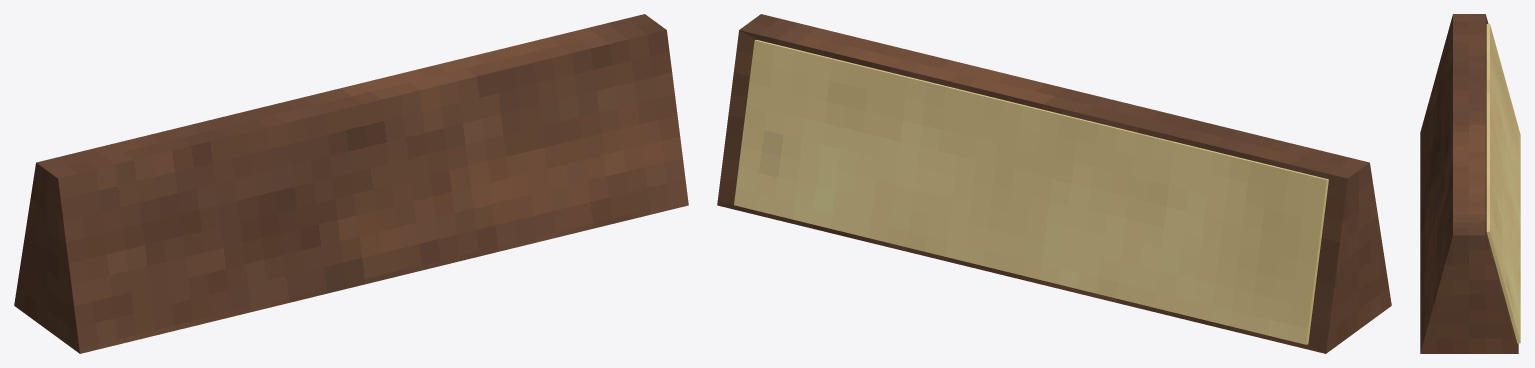
File: table_nameplate.gltf
3 renders of one model, left to right at view 1: azimuth 30°, elevation 25°; view 2: azimuth 150°, elevation 25°; view 3: azimuth 270°, elevation 25°, orthographic. The views are drawn at different scales.
Visible parts, largest first — view 1: wood_base; view 2: golden_nameplate, wood_base; view 3: wood_base, golden_nameplate.
Part boxes in pixels (box(x1,y1,x2,y2)): wood_base: box(14, 14, 688, 353); golden_nameplate: box(734, 40, 1328, 344); wood_base: box(717, 14, 1391, 353); wood_base: box(1420, 14, 1518, 353); golden_nameplate: box(1486, 23, 1520, 343).
Bounding box in the file's own units: 2 × 0.5 × 0.3834.
Materials: 2 (2 with a texture image).
